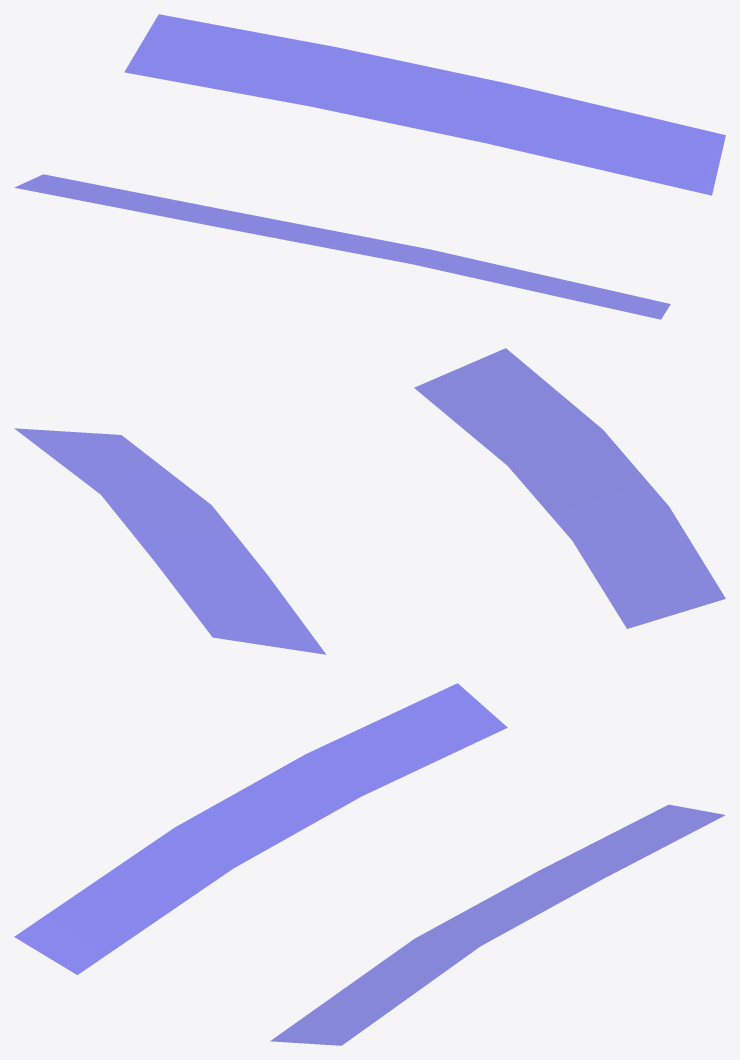
The model's file is track_la_coll_off_09.fbx.
3 renders of one model, top to bottom at view 1: azimuth 30°, elevation 25°; view 2: azimuth 150°, elevation 25°; view 3: azimuth 270°, elevation 25°, orthographic. The views are drawn at different scales.
Parts seen in each view (by area): view 1: track_la_coll_off_09; view 2: track_la_coll_off_09; view 3: track_la_coll_off_09.
Boxes of the visible parts, x1,y1,x2,y2 form: track_la_coll_off_09: [14, 14, 725, 319]; track_la_coll_off_09: [14, 348, 725, 654]; track_la_coll_off_09: [14, 683, 724, 1045].
Size of the model in its own units: 64.04 by 7.84 by 63.48.
